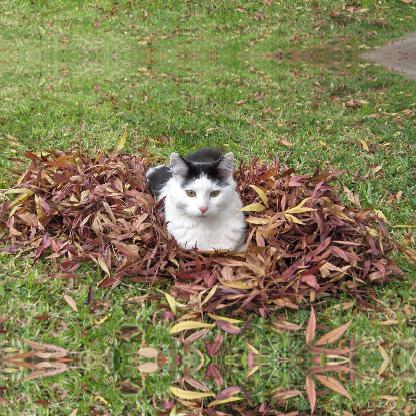Cat: (144, 142, 250, 252)
